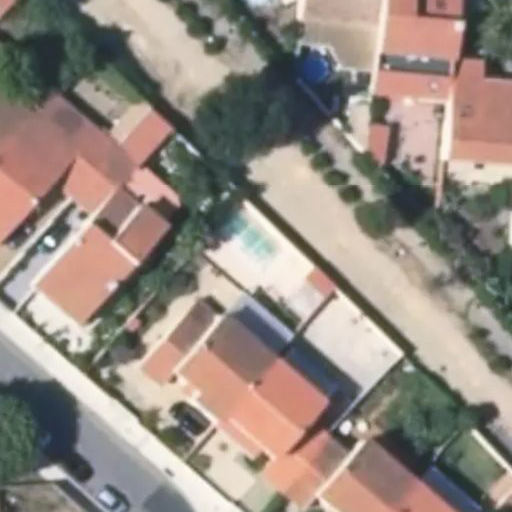pool: (225, 233, 286, 250)
